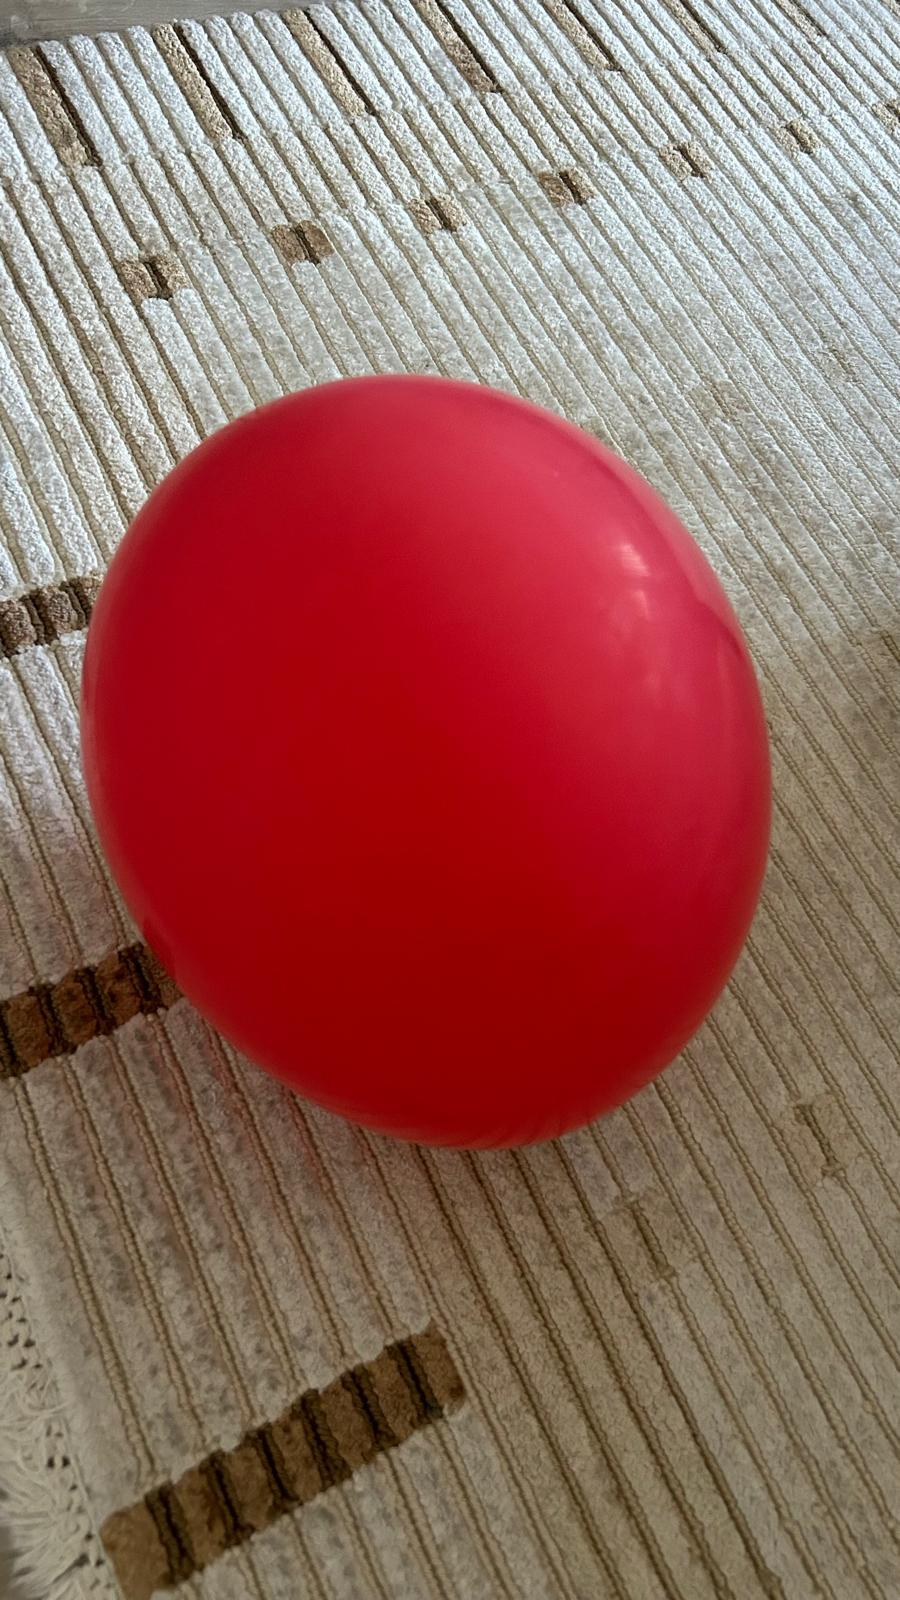red: (70, 364, 776, 1165)
